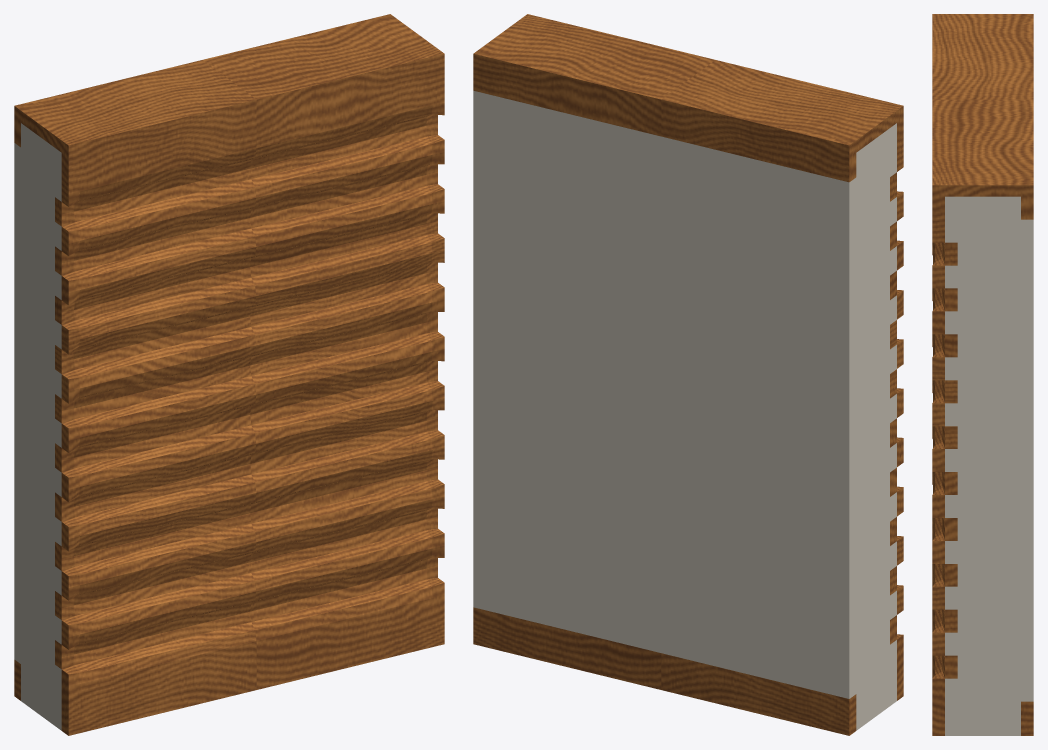
File: wall_out_plank.glb
3 renders of one model, left to right at view 1: azimuth 30°, elevation 25°; view 2: azimuth 150°, elevation 25°; view 3: azimuth 270°, elevation 25°, orthographic. The views are drawn at different scales.
Visible parts, largest first — view 1: town_wall_out_plank; view 2: town_wall_out_plank; view 3: town_wall_out_plank.
Part boxes in pixels (x1,y1,x2,y2): town_wall_out_plank: (14, 14, 444, 735); town_wall_out_plank: (473, 14, 903, 735); town_wall_out_plank: (932, 14, 1033, 735).
Bounding box in the file's own units: 1 × 1.5 × 0.25.
Materials: 2 (1 with a texture image).
